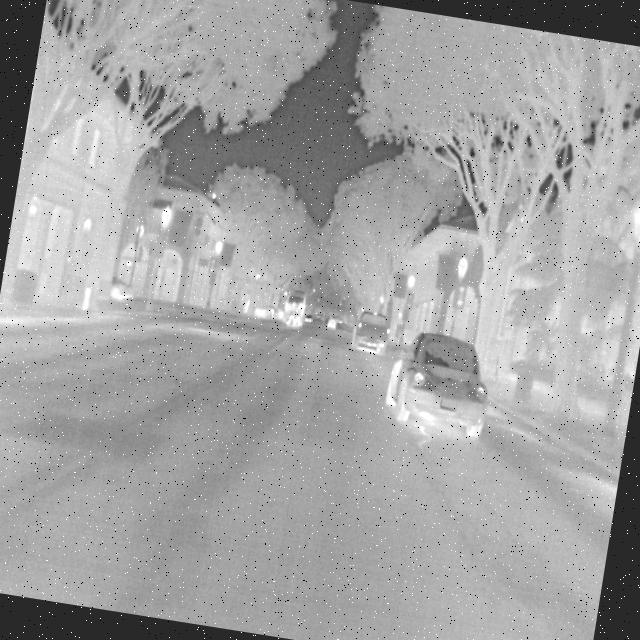Pedestrian: (285, 300, 299, 327), (292, 306, 306, 328)
Vehicle: (378, 324, 500, 448), (348, 307, 396, 361), (280, 286, 310, 332)
